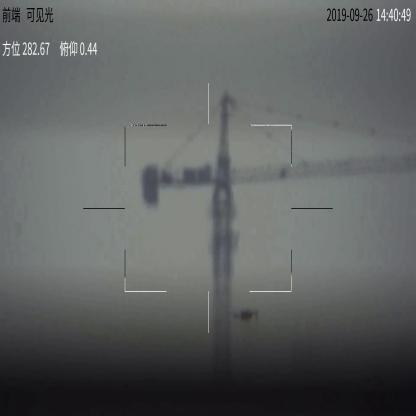uav: (228, 306, 261, 325)
